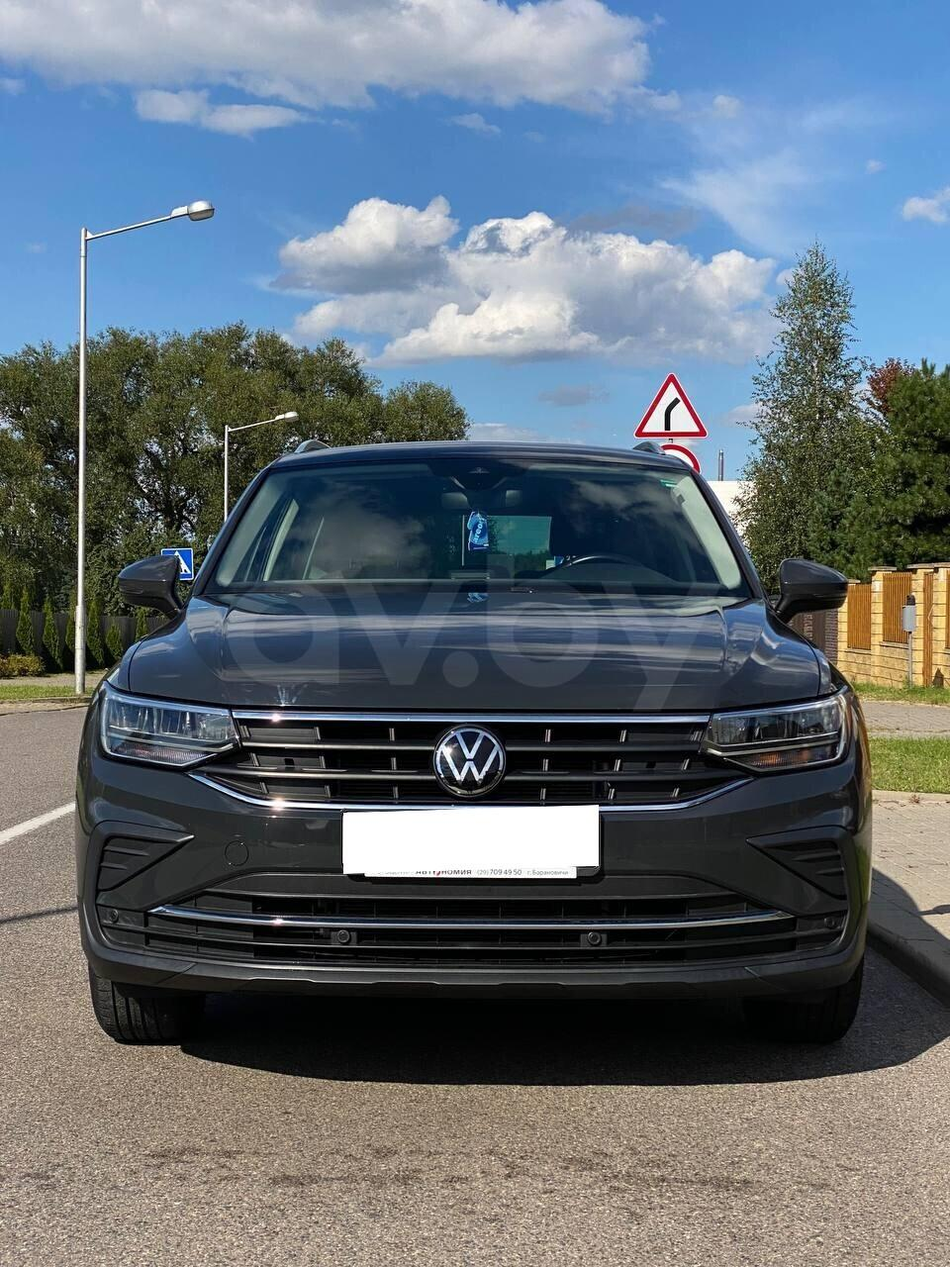Tiguan_2020-2024: (66, 436, 876, 1041)
